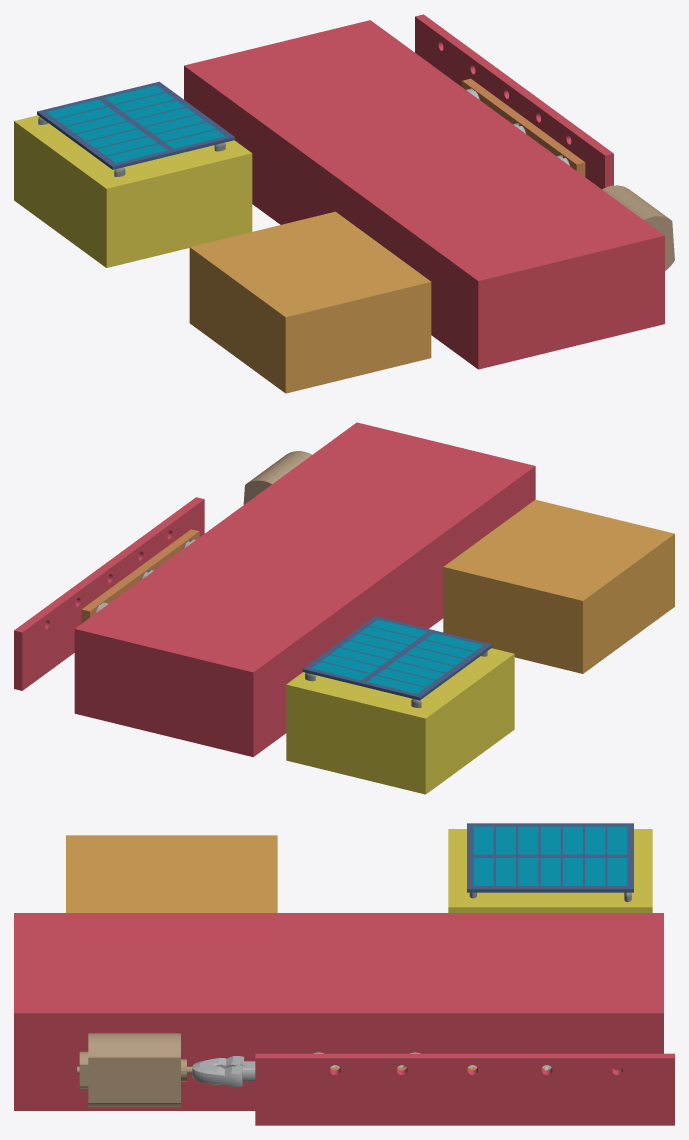
Rendered from 3dmodel.glb.
3 views of the same model, one above another, from view 1: azimuth 30°, elevation 25°; view 2: azimuth 150°, elevation 25°; view 3: azimuth 270°, elevation 25° (orthographic). The views are drawn at different scales.
Visible parts, largest first — view 1: Mesh_Mesh_head_geo.001_lambert2SG.001; view 2: Mesh_Mesh_head_geo.001_lambert2SG.001; view 3: Mesh_Mesh_head_geo.001_lambert2SG.001.
Part boxes in pixels (x1,y1,x2,y2): Mesh_Mesh_head_geo.001_lambert2SG.001: (14,14,674,393); Mesh_Mesh_head_geo.001_lambert2SG.001: (14,422,674,794); Mesh_Mesh_head_geo.001_lambert2SG.001: (14,823,674,1125).
Bounding box in the file's own units: 144 × 30 × 178.
